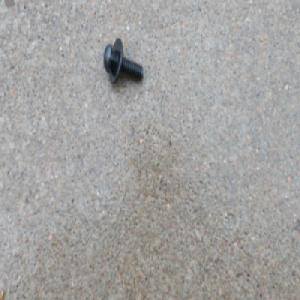BoltWasher: (102, 35, 144, 84)
